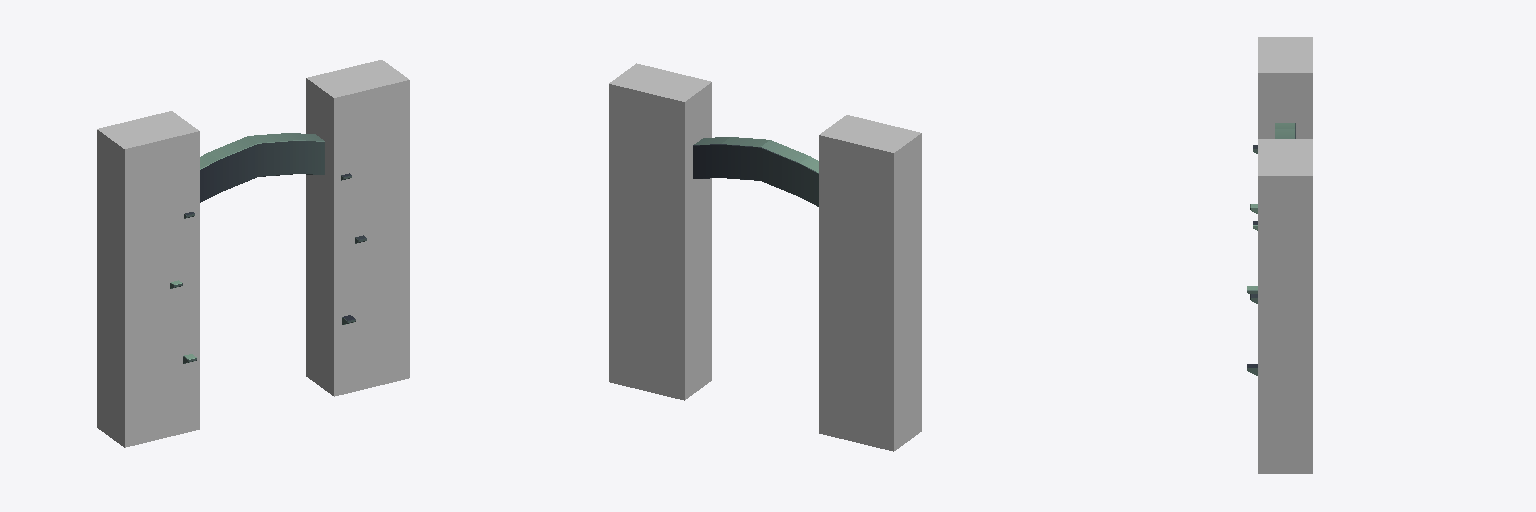
3 views of the same model, side by side, from view 1: azimuth 30°, elevation 25°; view 2: azimuth 150°, elevation 25°; view 3: azimuth 270°, elevation 25° (orthographic).
Visible parts, largest first — view 1: cBox_Gate_Cube.035, cBox_Gate02_Cube.038, Gate_Cube.042; view 2: cBox_Gate_Cube.035, cBox_Gate02_Cube.038, Gate_Cube.042; view 3: cBox_Gate02_Cube.038, cBox_Gate_Cube.035, Gate_Cube.042.
Boxes of the visible parts, x1,y1,x2,y2 form: cBox_Gate_Cube.035: [97, 111, 199, 447]; cBox_Gate02_Cube.038: [306, 60, 409, 396]; Gate_Cube.042: [170, 133, 366, 363]; cBox_Gate_Cube.035: [819, 115, 921, 451]; cBox_Gate02_Cube.038: [609, 63, 711, 400]; Gate_Cube.042: [693, 137, 818, 206]; cBox_Gate02_Cube.038: [1258, 139, 1312, 473]; cBox_Gate_Cube.035: [1258, 37, 1312, 138]; Gate_Cube.042: [1247, 123, 1295, 375].
Bounding box in the file's own units: 20.11 × 20.16 × 4.04.
2 materials, 1 textured.